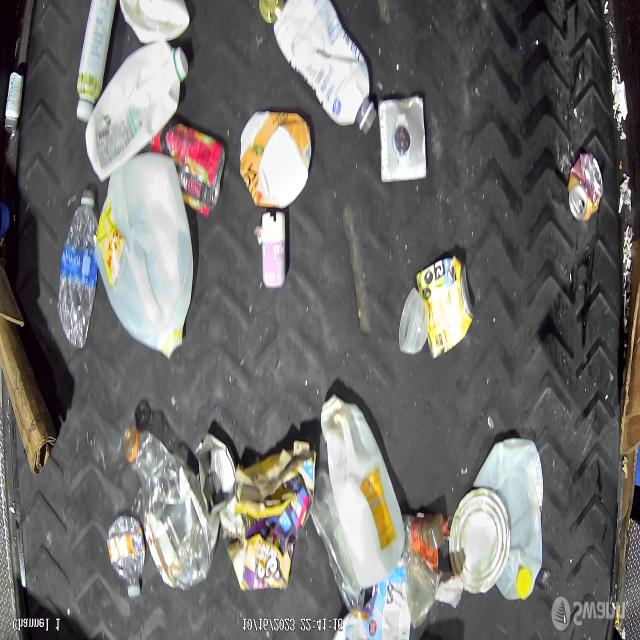can: (449, 487, 511, 595), (419, 257, 474, 358), (567, 152, 604, 223), (255, 1, 291, 24)
milk_jug: (98, 157, 194, 360), (320, 395, 406, 588), (87, 39, 191, 174), (473, 438, 544, 602)
non_white_jug: (240, 111, 312, 207)
plastic_bottle: (124, 428, 215, 588), (273, 0, 377, 137), (58, 190, 98, 348), (108, 513, 145, 601)
